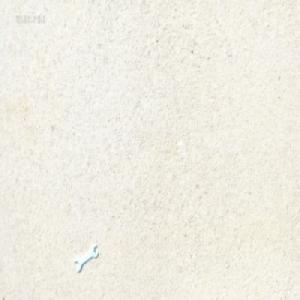Wrench: (74, 244, 99, 272)
